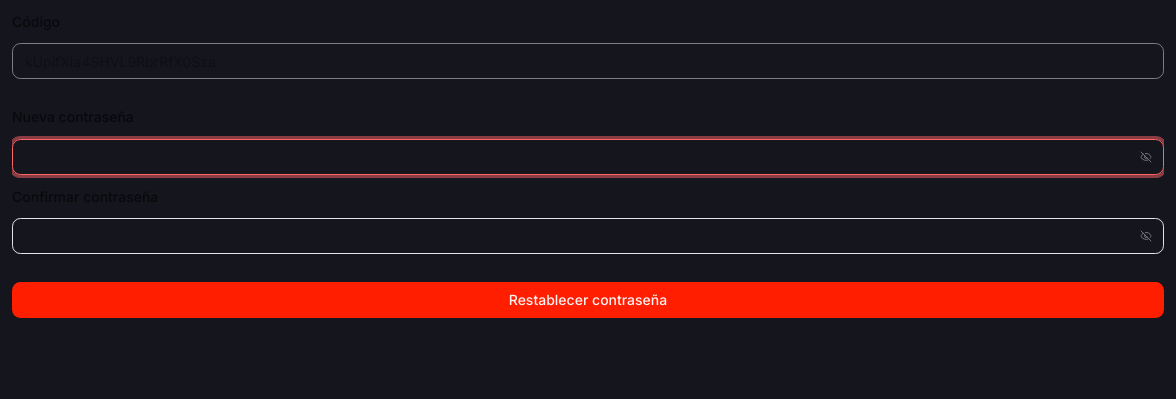
Scenario: FormResetPassword › should show validation errors when submitting empty form
Click the button "Restablecer contraseña". click: coordinates (588, 300)
box: [12,282,1164,318]
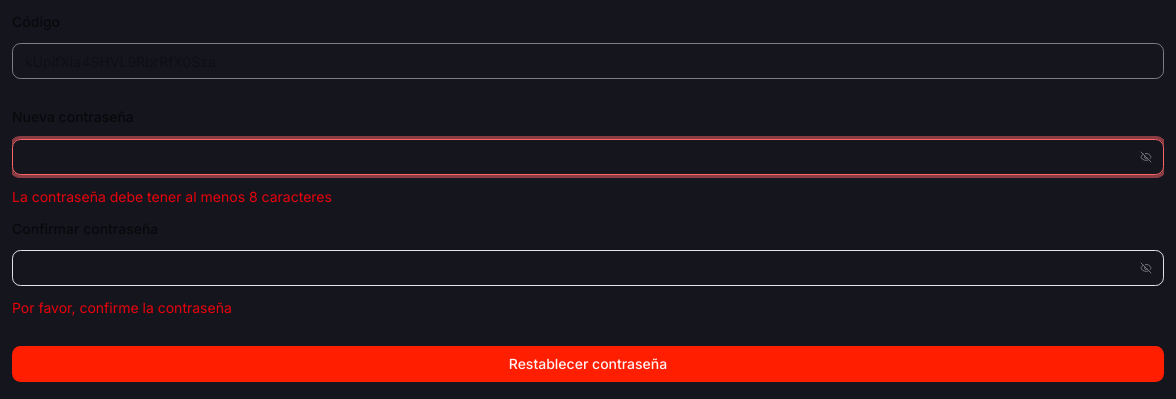
Check: the text "La contraseña debe tener al menos 8 caracteres" is shown, box [12,188,332,204]
Check: the text "Por favor, confirme la contraseña" is shown, box [12,299,232,316]
